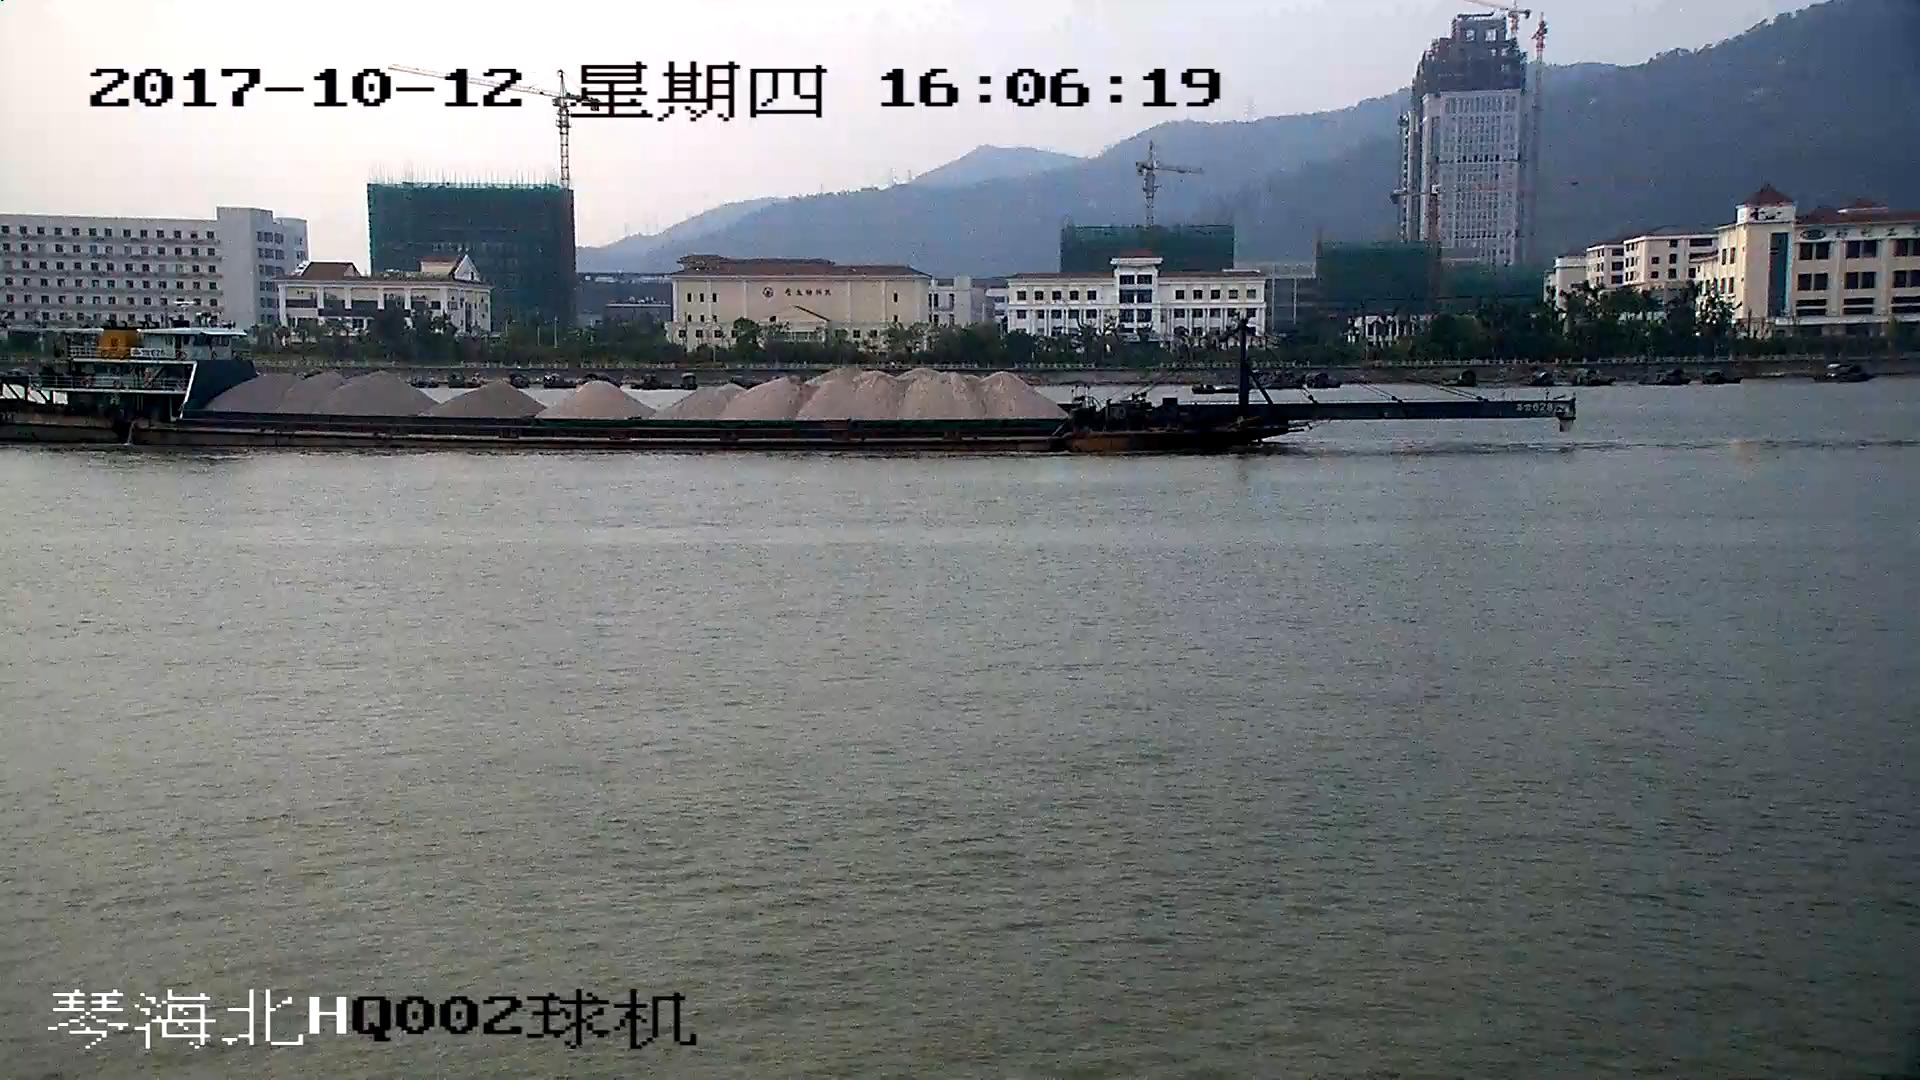ore carrier: (1, 318, 1574, 451)
